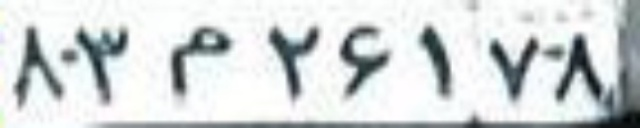1: (412, 24, 458, 99)
2: (266, 23, 321, 103)
3: (73, 24, 136, 107)
6: (335, 24, 390, 96)
7: (483, 33, 539, 103)
8: (12, 25, 66, 107), (554, 31, 604, 105)
lam: (166, 26, 236, 96)
